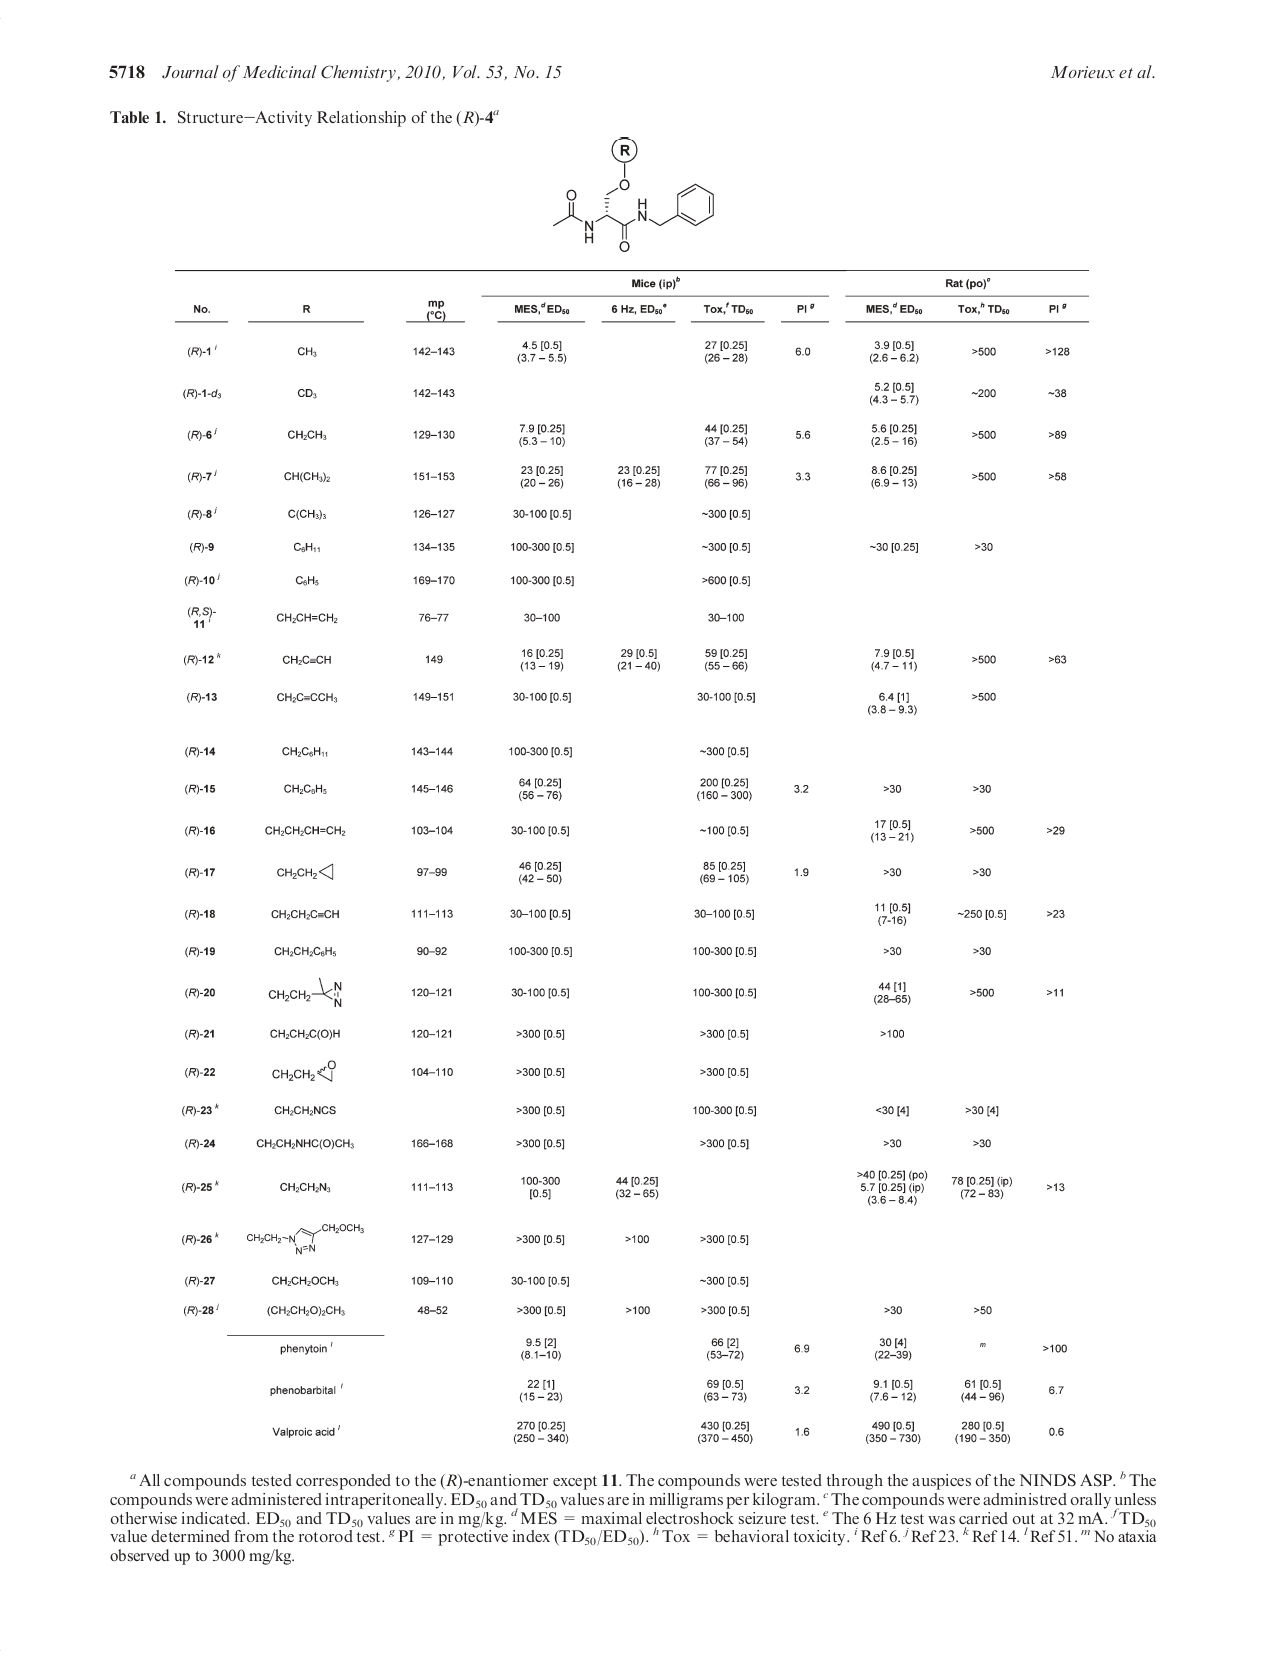exist_molecular: (552, 134, 717, 254)
